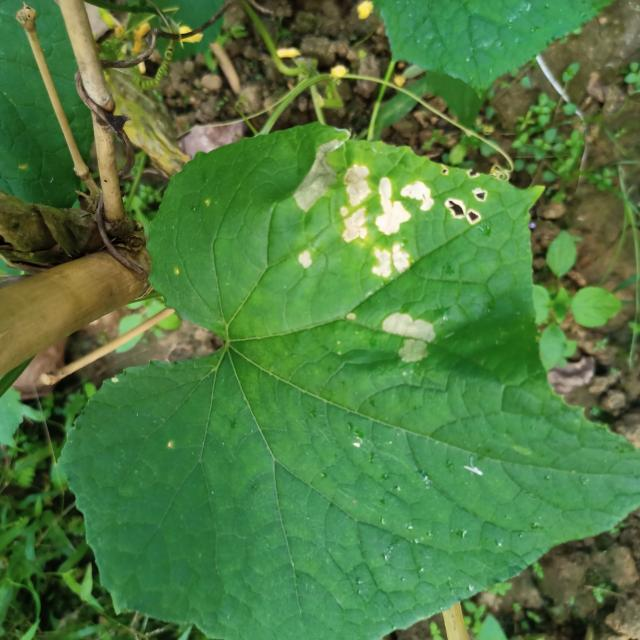disease_cucumber: (277, 136, 493, 284), (375, 305, 440, 367)
